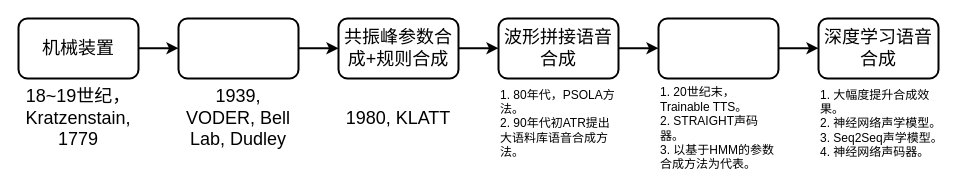
Some shapes in this 965 by 188 pixel diagram are drawn without their labels. The centre of each missing label's shape, as x and y in pixels:
"电子合成器" belongs at [238,48].
"统计参数语音合成" belongs at [718,48].
